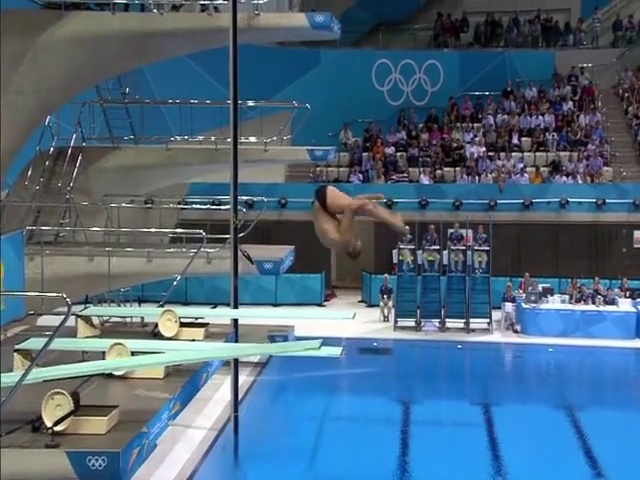diver: (311, 183, 407, 262)
